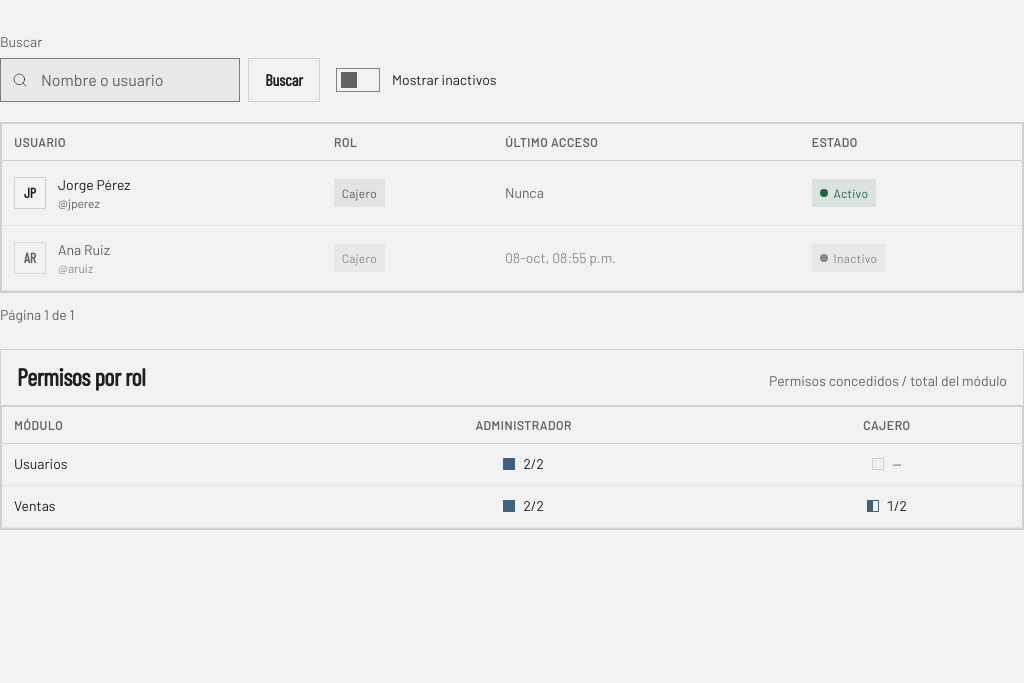
Scenario: Usuarios (7.1) › muestra el error del servidor al restablecer
Click the button with aria-label "Editar Jorge Pérez". click: (72, 192)
box: top-left (14, 170), bottom-right (131, 214)
(page scrolled)
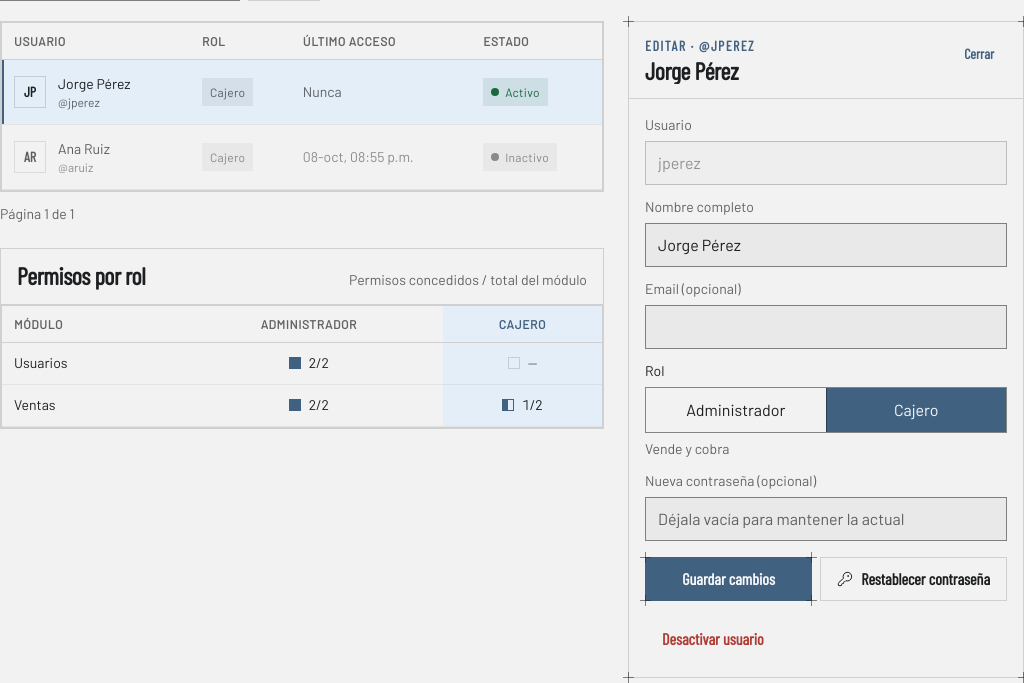
Click the button "Restablecer contraseña". click: (914, 579)
box: top-left (820, 557), bottom-right (1007, 601)
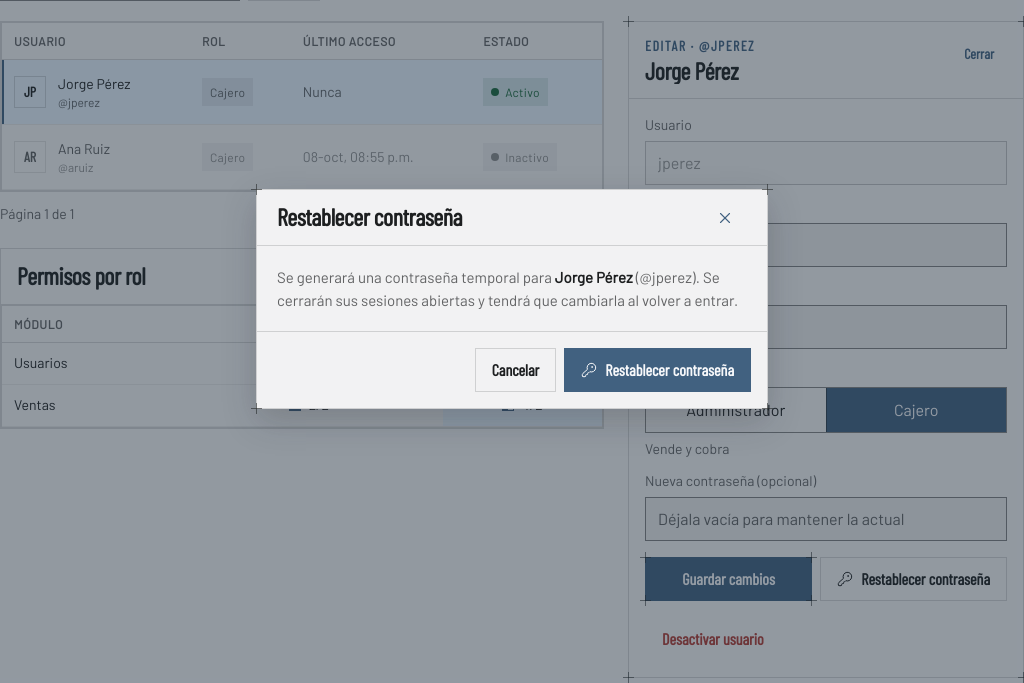
Click the button "Restablecer contraseña". click: (658, 370)
box: top-left (564, 348), bottom-right (751, 392)
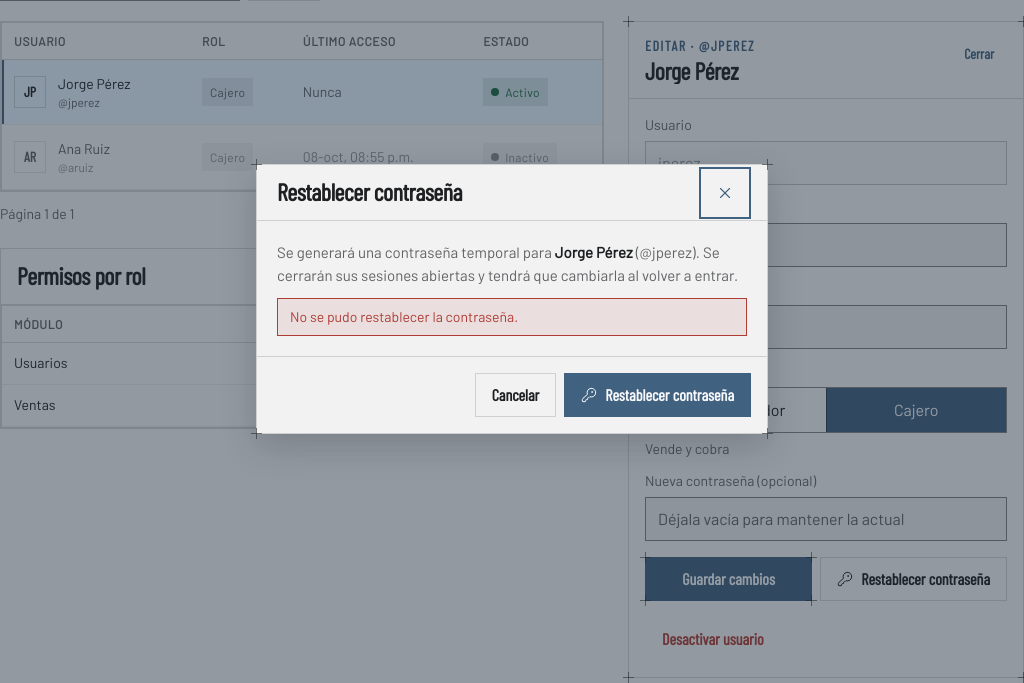
Result: the text "No se pudo restablecer la contraseña." is shown at top-left (277, 298), bottom-right (747, 336)
